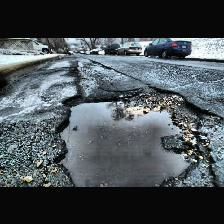pothole: (51, 84, 218, 186)
